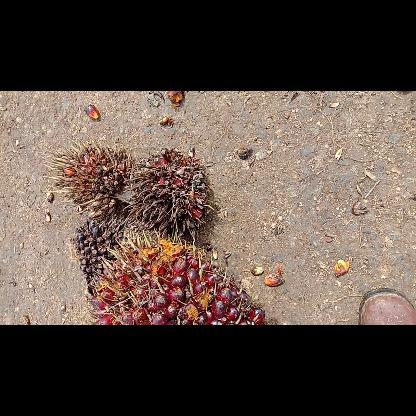TBS abnormal: (126, 146, 216, 242), (43, 134, 133, 214), (70, 212, 122, 294)
TBS masak: (90, 233, 270, 324)
